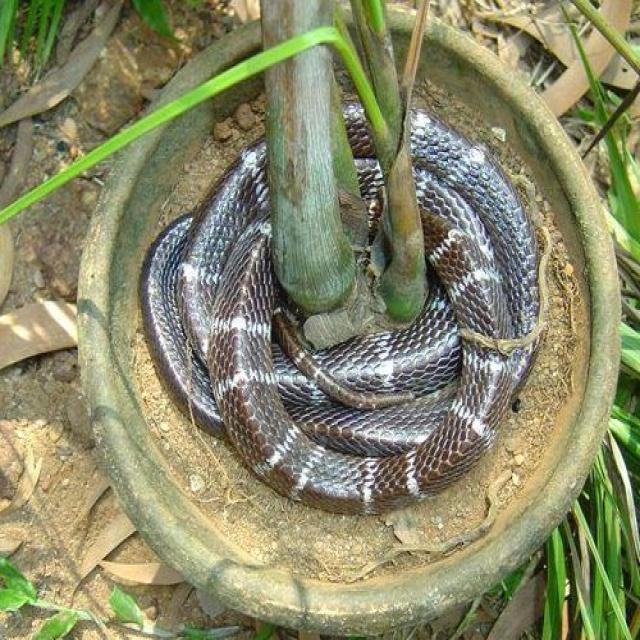Snake: (137, 90, 547, 516)
